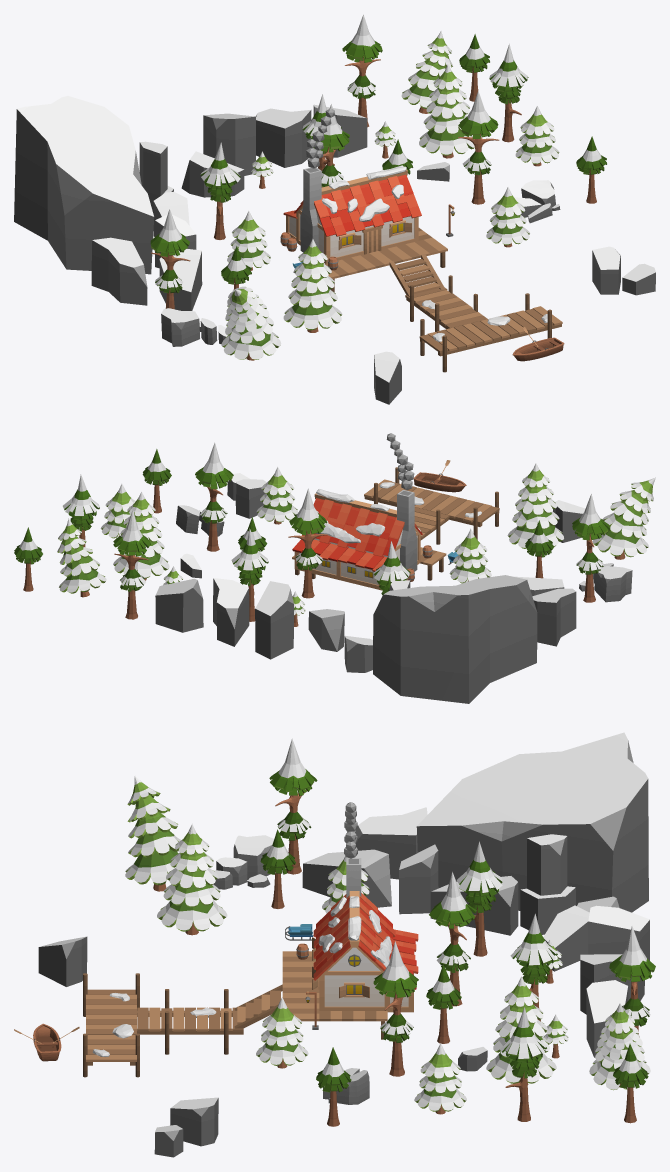
The model's file is river_winter.glb.
3 renders of one model, top to bottom at view 1: azimuth 30°, elevation 25°; view 2: azimuth 150°, elevation 25°; view 3: azimuth 270°, elevation 25°, orthographic. The views are drawn at different scales.
Visible parts, largest first — view 1: stones group winter_23, river winter house_41, wooden pier winter_6, fir tree winter large 4 (1)_36, fir tree winter tilted 4_33, fir tree winter large 4_20, stone winter small_16, stone winter small 3 (1)_34, pine tree winter lagre (2)_24, fir tree winter bent 4_25, pine tree winter lagre_21, stones group winter 3_31 (+17 smaller); view 2: stones group winter_23, river winter house_41, wooden pier winter_6, fir tree winter tilted 4_33, stone winter small 3 (1)_34, fir tree winter large 4 (1)_36, stone winter small 6 (1)_22, fir tree winter bent 4_25, stone winter small_16, fir tree winter large 4_20, pine tree winter lagre (1)_37, pine tree winter lagre_21 (+18 smaller); view 3: stones group winter_23, wooden pier winter_6, river winter house_41, fir tree winter large 4 (1)_36, fir tree winter tilted 4_33, fir tree winter large 4_20, fir tree winter bent 4_25, pine tree winter lagre (2)_24, stone winter small 3 (1)_34, pine tree winter lagre (3)_28, pine tree winter lagre (1)_37, stones group winter 3_31 (+19 smaller).
Boxes of the visible parts, x1=… form: stones group winter_23: x1=14, y1=96, x2=202, y2=310; river winter house_41: x1=283, y1=165, x2=421, y2=263; wooden pier winter_6: x1=325, y1=228, x2=562, y2=372; fir tree winter large 4 (1)_36: x1=283, y1=238, x2=342, y2=332; fir tree winter tilted 4_33: x1=221, y1=286, x2=281, y2=360; fir tree winter large 4_20: x1=419, y1=64, x2=474, y2=158; stone winter small_16: x1=256, y1=108, x2=311, y2=167; stone winter small 3 (1)_34: x1=203, y1=113, x2=255, y2=175; pine tree winter lagre (2)_24: x1=458, y1=91, x2=499, y2=204; fir tree winter bent 4_25: x1=401, y1=31, x2=453, y2=113; pine tree winter lagre_21: x1=342, y1=14, x2=382, y2=127; stones group winter 3_31: x1=161, y1=308, x2=227, y2=346; stones group winter_23: x1=344, y1=575, x2=576, y2=703; river winter house_41: x1=292, y1=489, x2=422, y2=590; wooden pier winter_6: x1=292, y1=467, x2=499, y2=580; fir tree winter tilted 4_33: x1=592, y1=477, x2=655, y2=559; stone winter small 3 (1)_34: x1=255, y1=581, x2=293, y2=659; fir tree winter large 4 (1)_36: x1=507, y1=463, x2=563, y2=552; stone winter small 6 (1)_22: x1=155, y1=578, x2=203, y2=632; fir tree winter bent 4_25: x1=57, y1=518, x2=106, y2=597; stone winter small_16: x1=213, y1=578, x2=249, y2=646; fir tree winter large 4_20: x1=113, y1=492, x2=169, y2=580; pine tree winter lagre (1)_37: x1=288, y1=488, x2=327, y2=598; pine tree winter lagre_21: x1=113, y1=510, x2=150, y2=619; stones group winter_23: x1=302, y1=732, x2=648, y2=935; wooden pier winter_6: x1=83, y1=951, x2=387, y2=1077; river winter house_41: x1=312, y1=858, x2=418, y2=1012; fir tree winter large 4 (1)_36: x1=157, y1=824, x2=227, y2=935; fir tree winter tilted 4_33: x1=125, y1=776, x2=181, y2=891; fir tree winter large 4_20: x1=486, y1=976, x2=556, y2=1084; fir tree winter bent 4_25: x1=589, y1=1003, x2=650, y2=1090; pine tree winter lagre (2)_24: x1=373, y1=941, x2=418, y2=1076; stone winter small 3 (1)_34: x1=588, y1=905, x2=649, y2=960; pine tree winter lagre (3)_28: x1=269, y1=738, x2=317, y2=874; pine tree winter lagre (1)_37: x1=429, y1=872, x2=476, y2=1006; stones group winter 3_31: x1=213, y1=835, x2=274, y2=889.
Bounding box in the file's own units: 15.33 × 5.47 × 14.87.
Materials: 1 (1 with a texture image).
